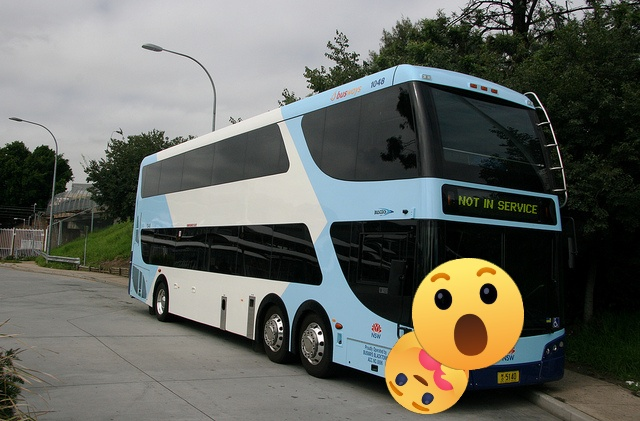care: (385, 330, 469, 414)
wow: (412, 258, 524, 370)
